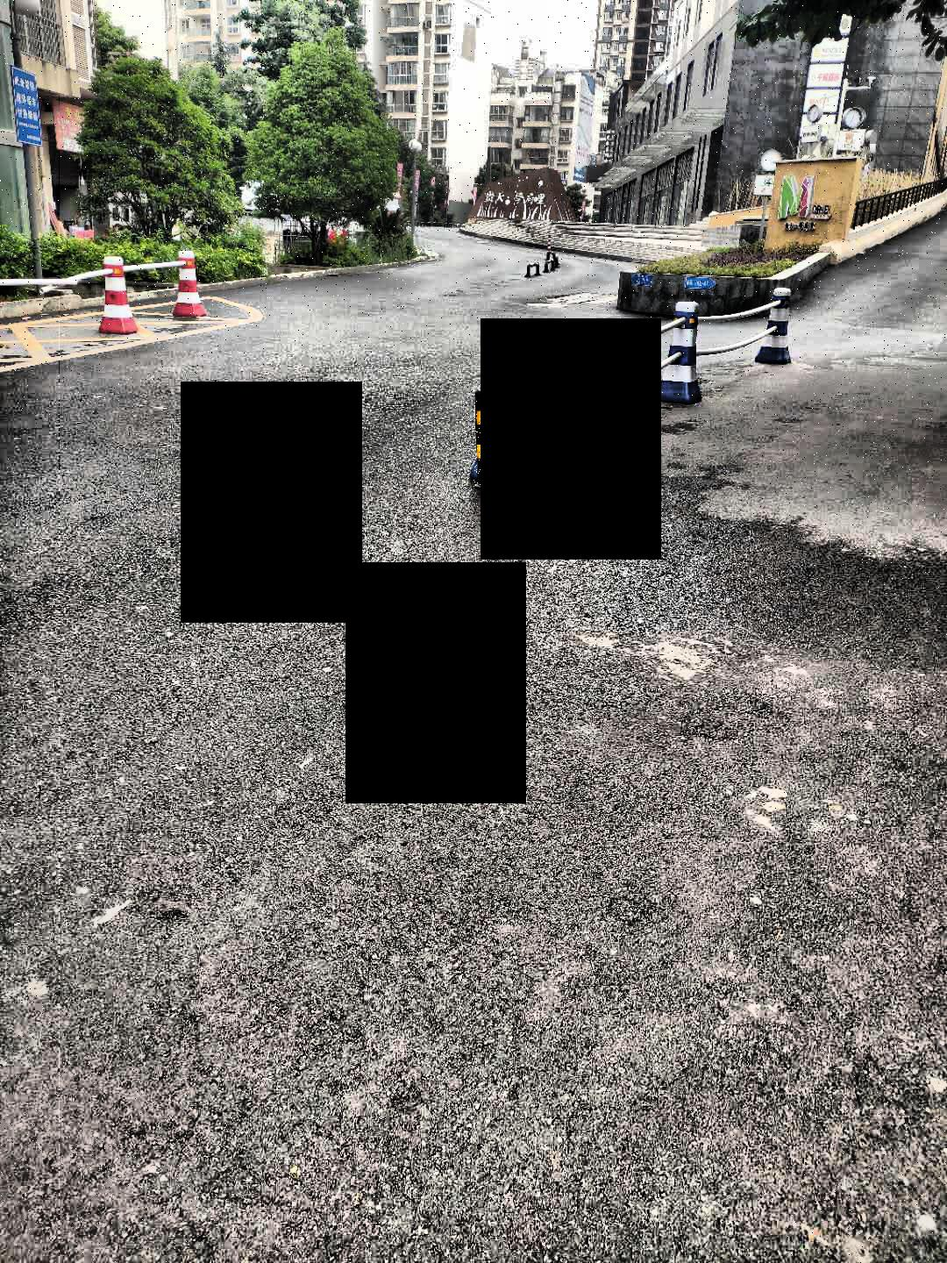bench: (463, 382, 502, 490)
